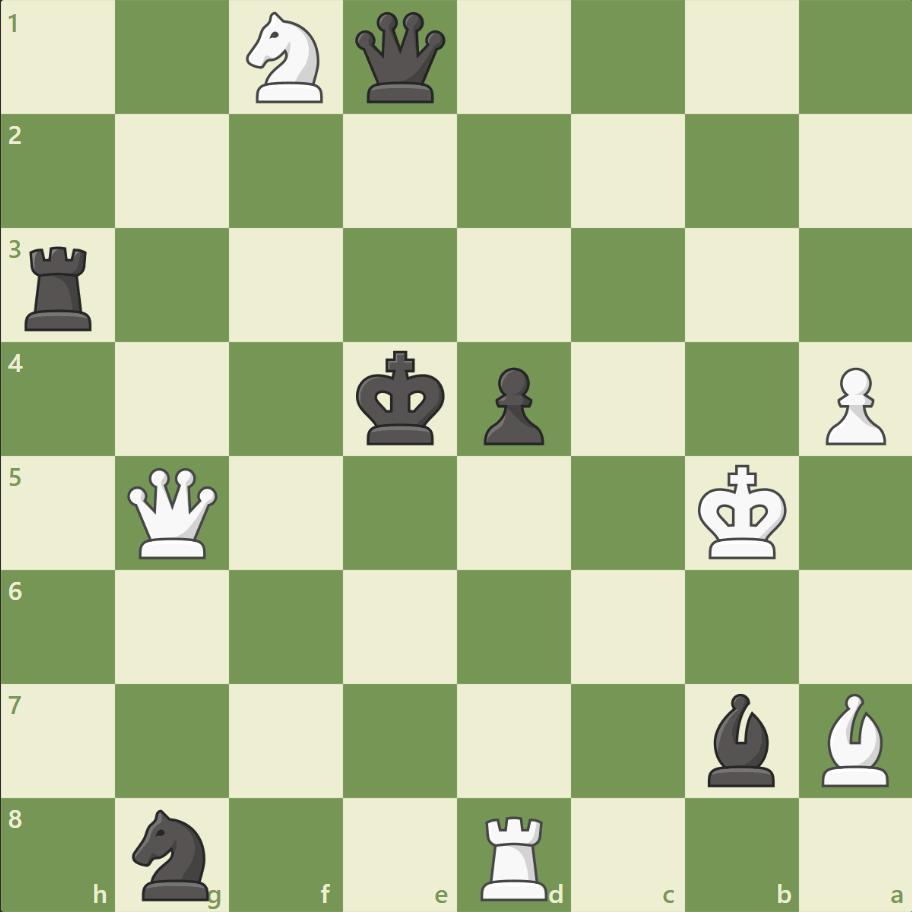B: (819, 693, 897, 796)
K: (696, 467, 794, 568)
N: (246, 13, 335, 114)
P: (823, 362, 895, 447)
Q: (127, 467, 228, 568)
R: (479, 808, 557, 908)
b: (706, 693, 784, 796)
k: (355, 353, 453, 455)
n: (133, 808, 222, 909)
p: (482, 362, 554, 447)
q: (354, 13, 455, 114)
r: (24, 240, 103, 340)
